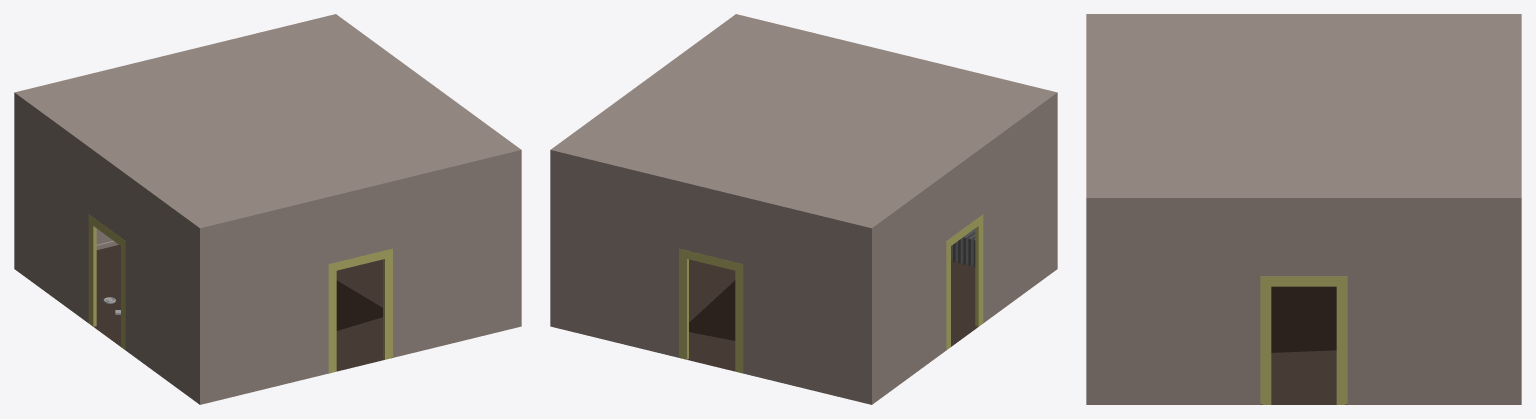
The model's file is Room01_AbandonedRoom.fbx.
3 views of the same model, side by side, from view 1: azimuth 30°, elevation 25°; view 2: azimuth 150°, elevation 25°; view 3: azimuth 270°, elevation 25° (orthographic). The views are drawn at different scales.
Visible parts, largest first — view 1: Roof, WallSlicedPosZ, WallSlicedPosX, Floor, DoorFramePosZ, DoorFramePosX, pPlane2, WallSlicedNegZ, WallSlicedNegX; view 2: Roof, WallSlicedNegZ, WallSlicedPosX, Floor, DoorFrameNegZ, DoorFramePosX, pPlane2, heater, WallSlicedPosZ; view 3: Roof, WallSlicedNegX, pPlane2, DoorFrameNegX, Floor, WallSlicedNegZ, WallSlicedPosZ, WallSlicedPosX.
Part boxes in pixels (x1,y1,x2,y2): Roof: [17, 15, 518, 227]; WallSlicedPosZ: [198, 149, 521, 404]; WallSlicedPosX: [14, 92, 201, 404]; Floor: [89, 245, 392, 373]; DoorFramePosZ: [328, 248, 392, 372]; DoorFramePosX: [88, 214, 125, 349]; pPlane2: [336, 280, 382, 330]; WallSlicedNegZ: [14, 14, 336, 269]; WallSlicedNegX: [335, 14, 521, 326]; Roof: [553, 15, 1054, 227]; WallSlicedNegZ: [550, 149, 872, 404]; WallSlicedPosX: [869, 92, 1056, 404]; Floor: [679, 259, 982, 373]; DoorFrameNegZ: [679, 248, 743, 372]; DoorFramePosX: [946, 214, 983, 349]; pPlane2: [689, 280, 735, 340]; heater: [951, 228, 975, 266]; WallSlicedPosZ: [736, 14, 1057, 269]; Roof: [1088, 14, 1519, 197]; WallSlicedNegX: [1086, 197, 1521, 404]; pPlane2: [1271, 286, 1336, 352]; DoorFrameNegX: [1260, 276, 1347, 404]; Floor: [1260, 350, 1347, 404]; WallSlicedNegZ: [1518, 14, 1521, 404]; WallSlicedPosZ: [1086, 14, 1089, 404]; WallSlicedPosX: [1088, 14, 1521, 14].
Bounding box in the file's own units: 800 × 420 × 800.
